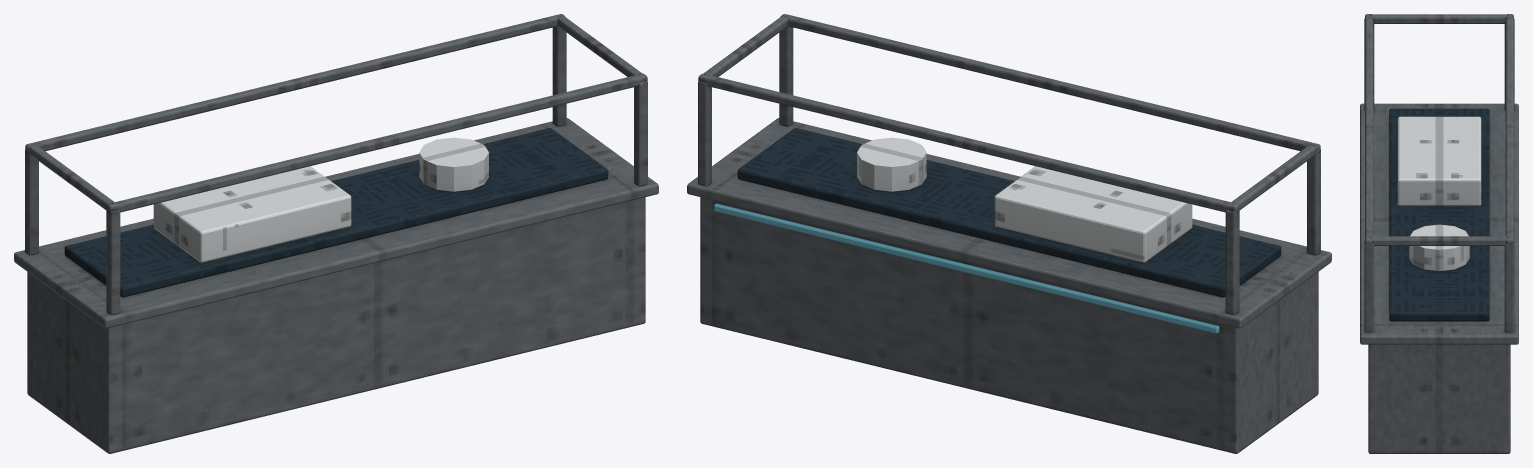
Rendered from base_display_case.glb.
3 renders of one model, left to right at view 1: azimuth 30°, elevation 25°; view 2: azimuth 150°, elevation 25°; view 3: azimuth 270°, elevation 25°, orthographic. The views are drawn at different scales.
Visible parts, largest first — view 1: base_display_case; view 2: base_display_case; view 3: base_display_case.
Part boxes in pixels (x1,y1,x2,y2): base_display_case: (14, 14, 658, 453); base_display_case: (687, 14, 1331, 453); base_display_case: (1360, 14, 1518, 453).
Size of the model in its own units: 3.3 by 1.42 by 0.95.
Materials: 4 (4 with a texture image).
